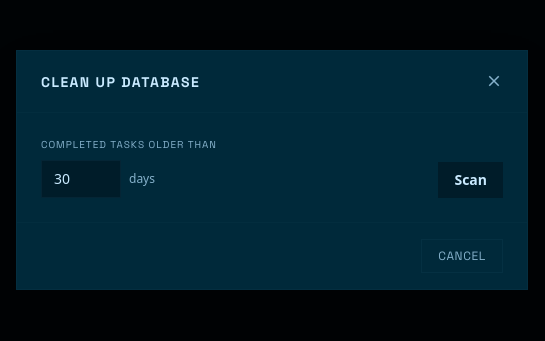
CleanupModal › shows "Nothing to clean up." and hides Delete Selected when scan is empty
This screenshot has width=545, height=341.
Click the button "Scan". click: [471, 180]
box: [438,162,503,198]
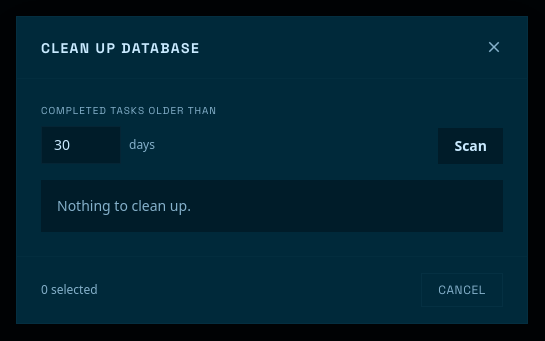
Result: the text "Nothing to clean up." is shown at [41,180,503,232]
